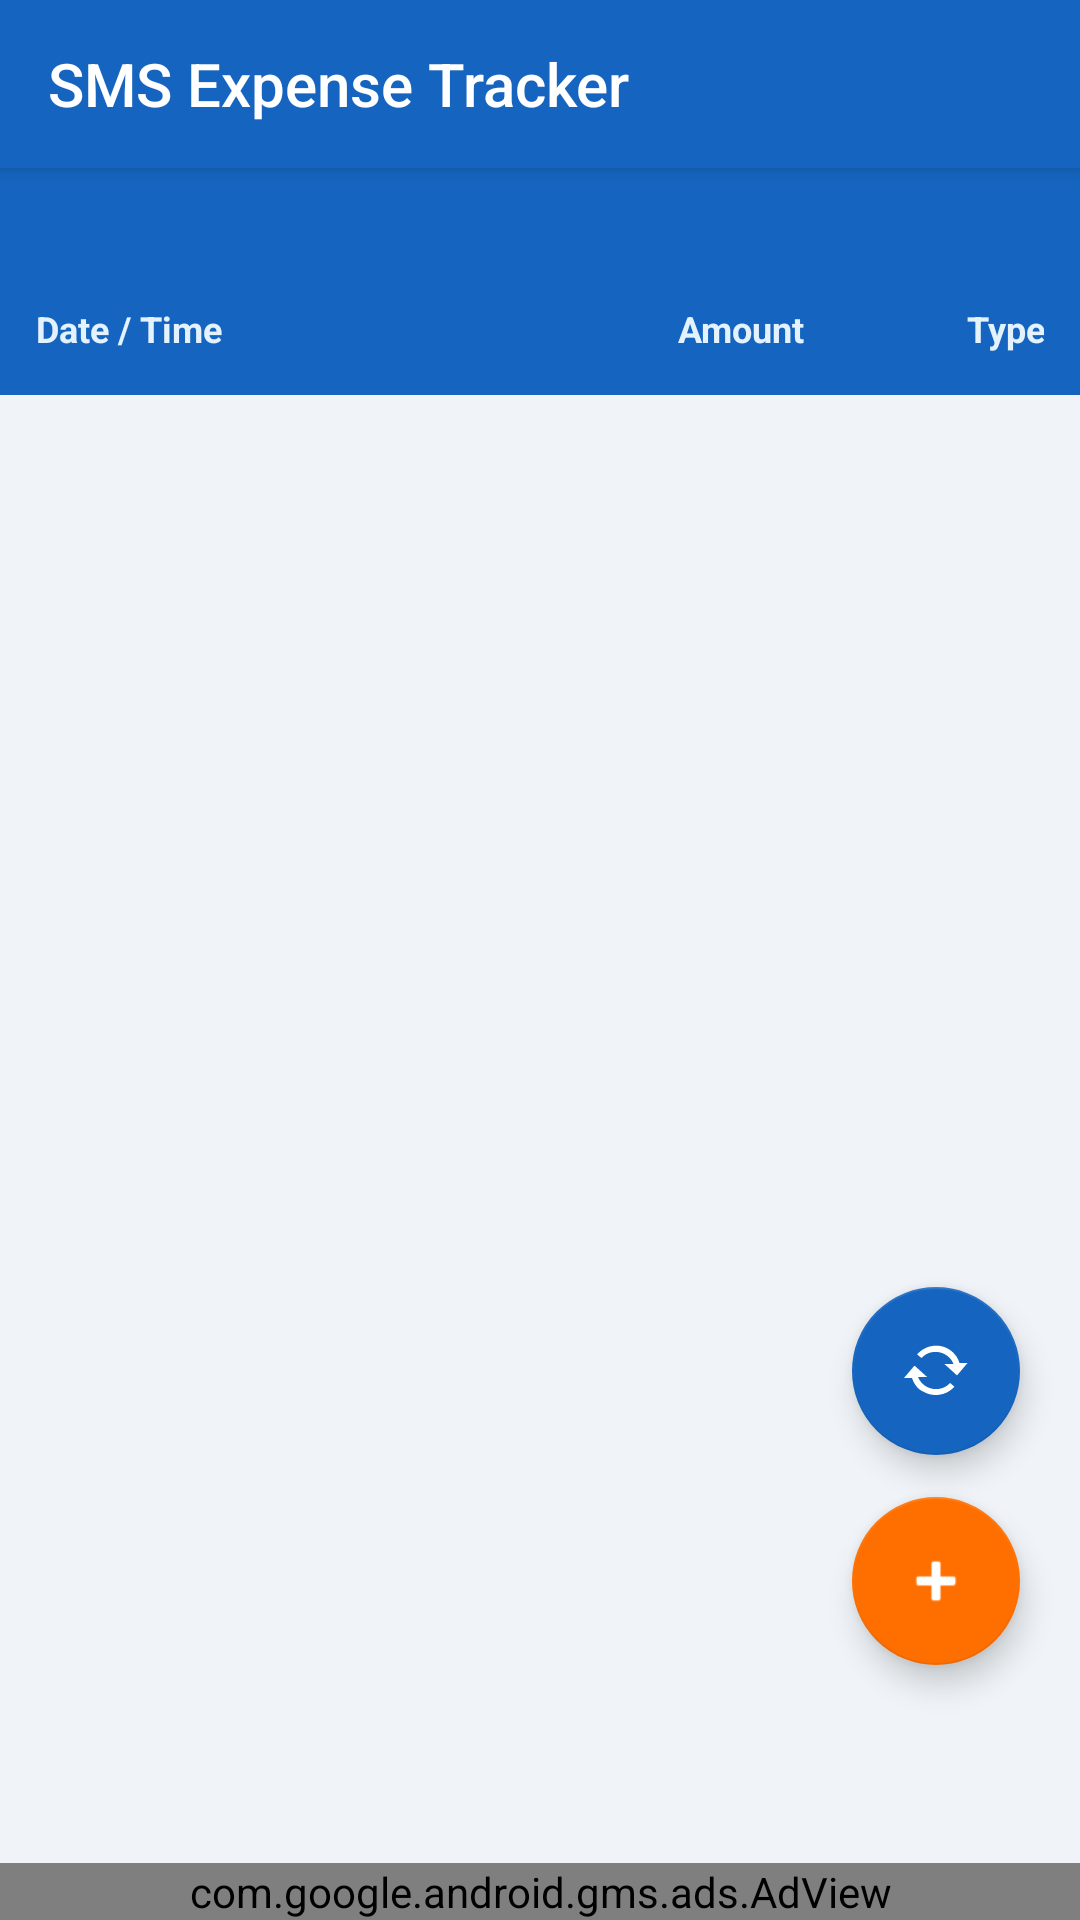

Named icons in this screenshot (1080x1920) and their bounding boxes, {"x1": x1, "y1": y1, "x2": x2, "y2": y2}:
Add Transaction: {"x1": 852, "y1": 1497, "x2": 1020, "y2": 1665}
Reload SMS: {"x1": 852, "y1": 1287, "x2": 1020, "y2": 1455}
